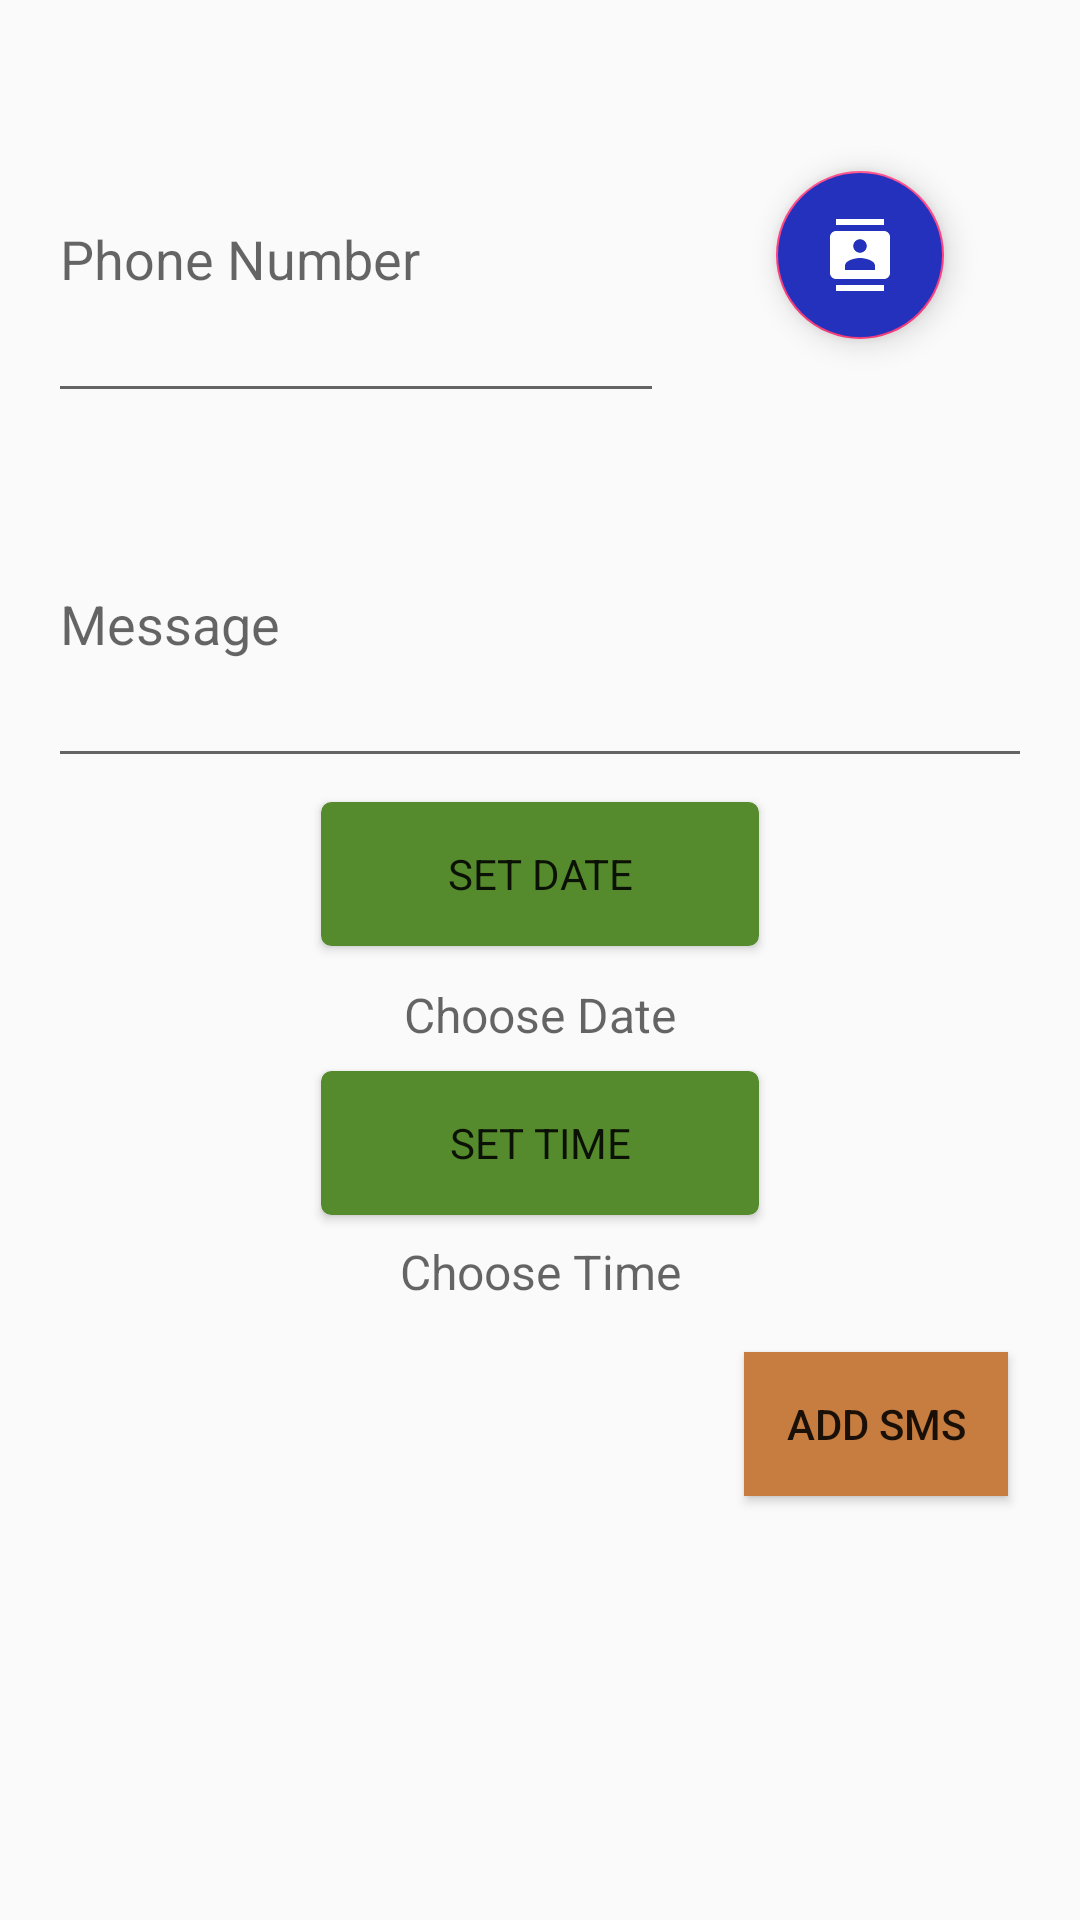

Where icons sit on this 1080px×1920px app screen, as [x1,y1,x2,y2]:
contacts: [776,171,944,339]
